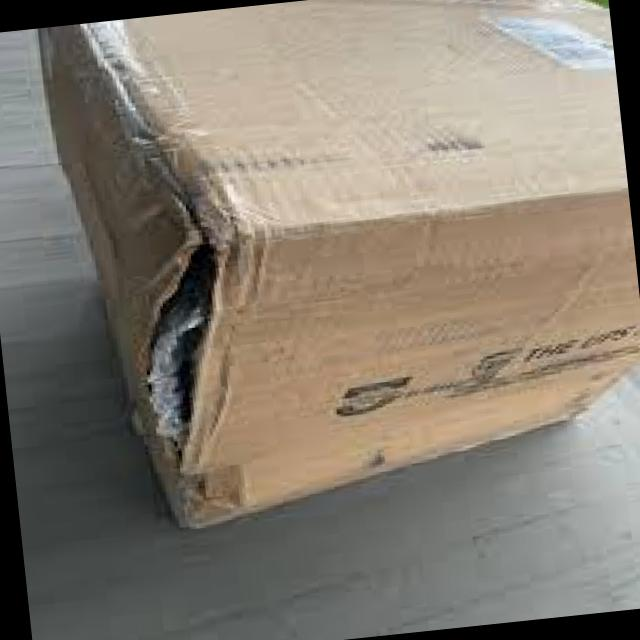package_damage: (126, 186, 301, 529)
